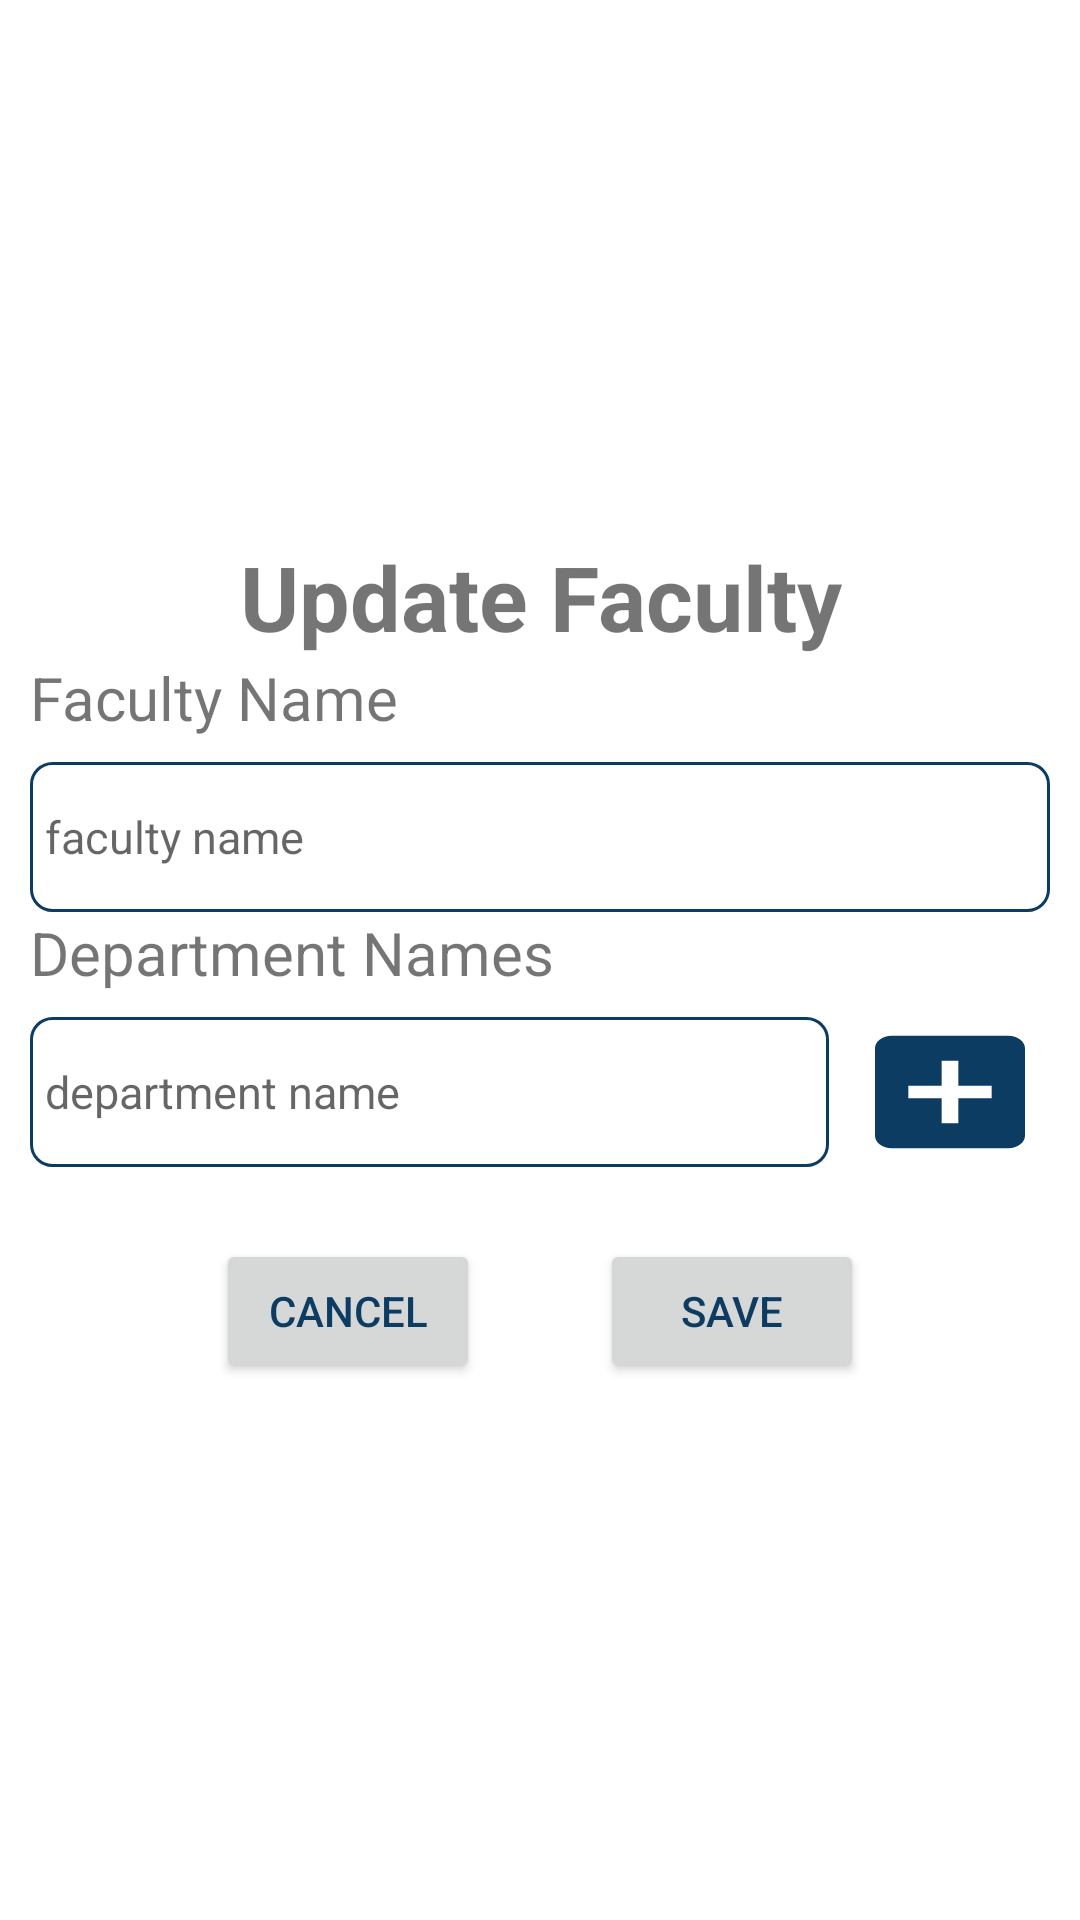

Locate icon controls on the screen. Image size 1080*1920, boxes as (x1, y1, x2, y2).
add box: (875, 1035, 1025, 1149)
